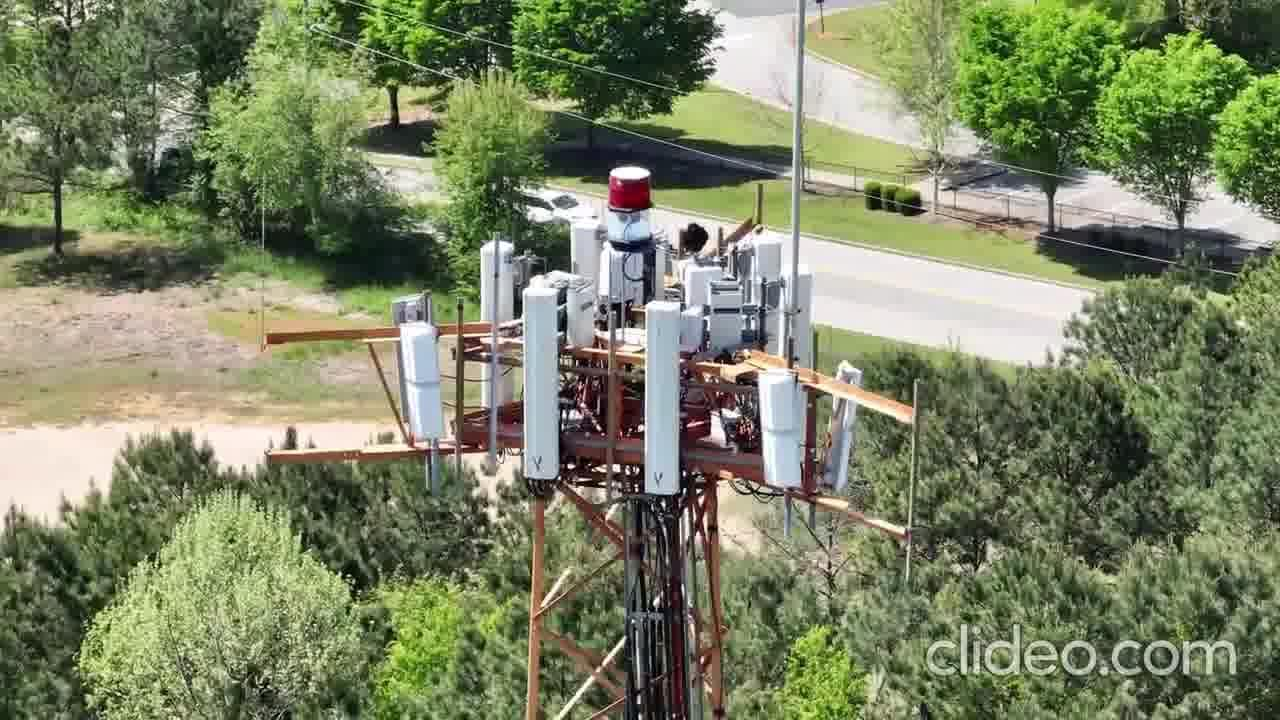antenna: (505, 286, 570, 488), (637, 296, 690, 503), (389, 319, 452, 463), (477, 237, 527, 408), (747, 360, 810, 483), (826, 361, 873, 504)
